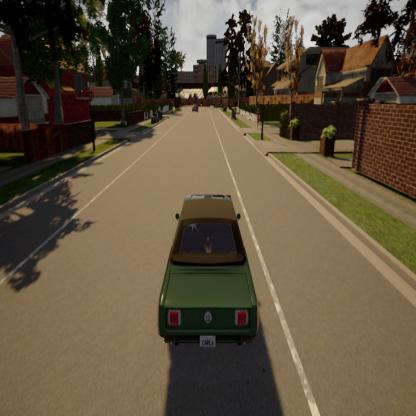Cars: (147, 163, 272, 374), (191, 101, 199, 117)
Pedestrian: (256, 104, 262, 133)
